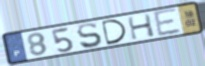5: (49, 25, 76, 53)
8: (26, 31, 49, 56)
D: (100, 18, 129, 46)
E: (152, 7, 183, 38)
H: (126, 13, 157, 42)
S: (75, 22, 104, 50)
